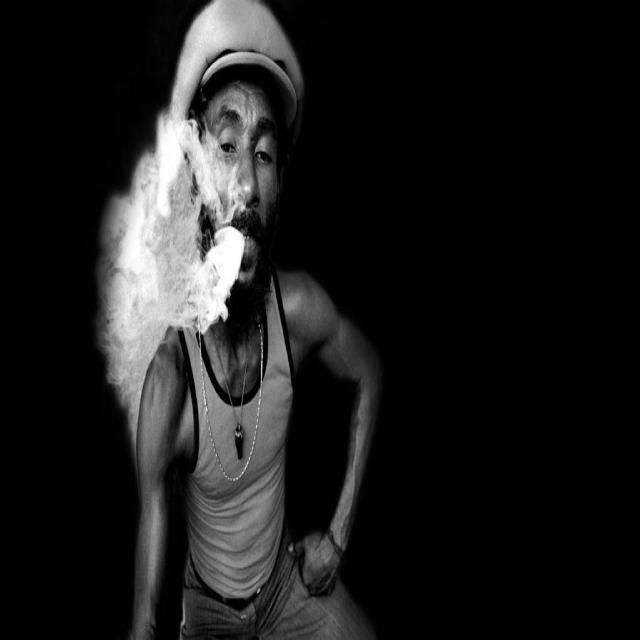smoking: (96, 1, 384, 636)
